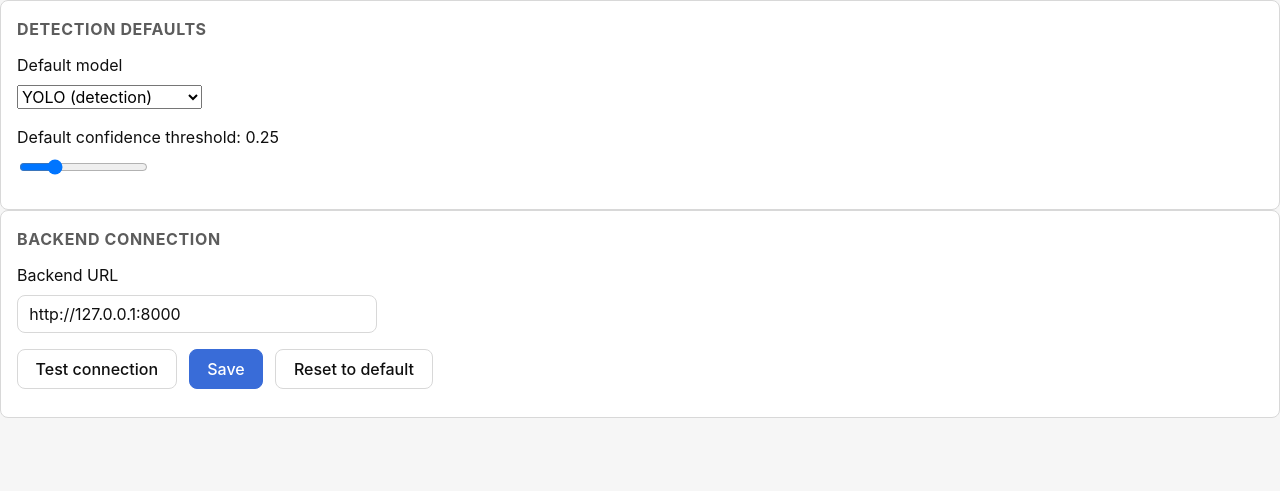
Test case: SettingsPage › rejects an invalid backend URL and does not save it
Type "not-a-url" into the field labelled "Backend URL".
click(197, 314); type("not-a-url")  # box [17, 295, 377, 333]
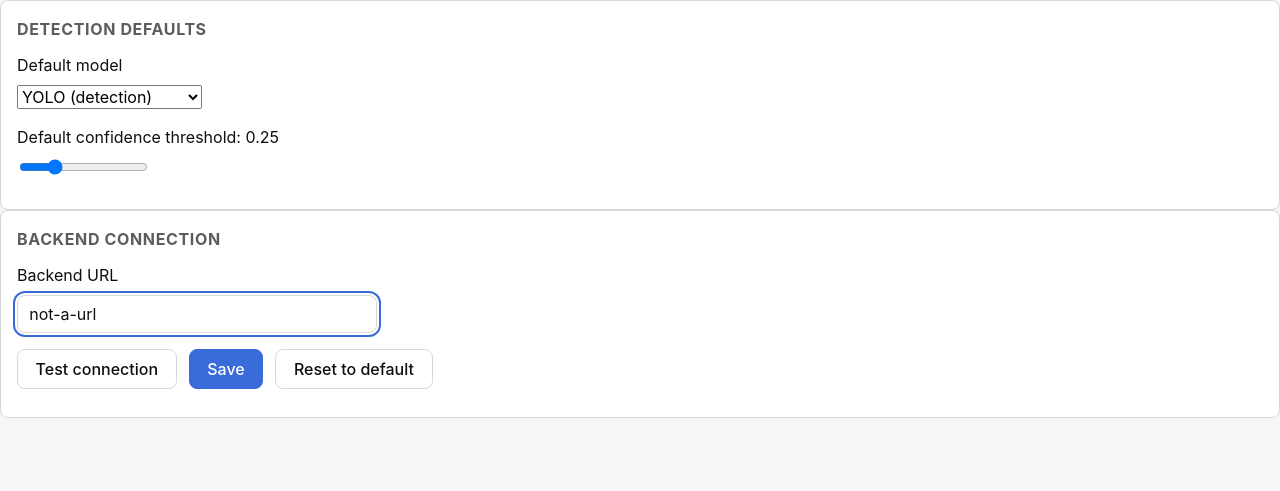
Click the button "Save".
click(226, 369)  # box [189, 349, 263, 389]
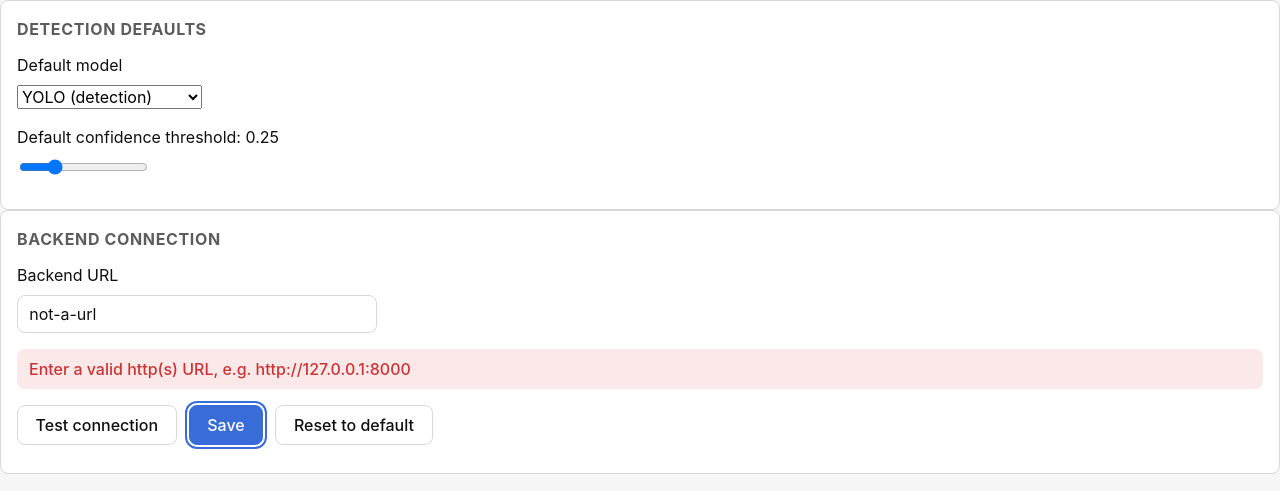
Now the text "Enter a valid http(s) URL, e.g. http://127.0.0.1:8000" is shown, box [17, 349, 1263, 389]
